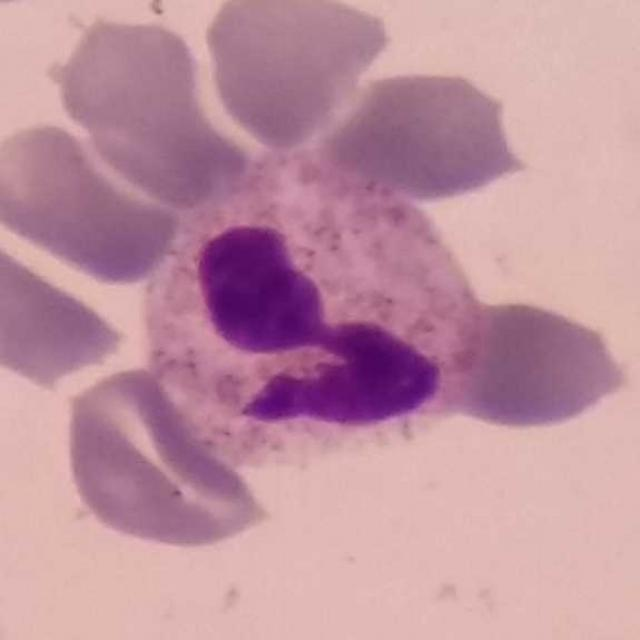Neutrophil: (144, 148, 490, 472)
RBC: (55, 362, 282, 553), (311, 62, 534, 207), (0, 115, 187, 286), (197, 0, 392, 150), (442, 293, 635, 436), (46, 8, 214, 154), (0, 216, 135, 386)
